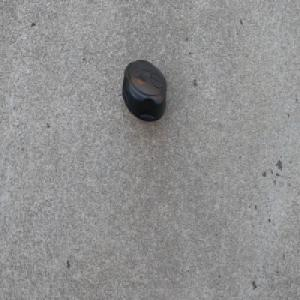FuelCap: (122, 57, 169, 125)
